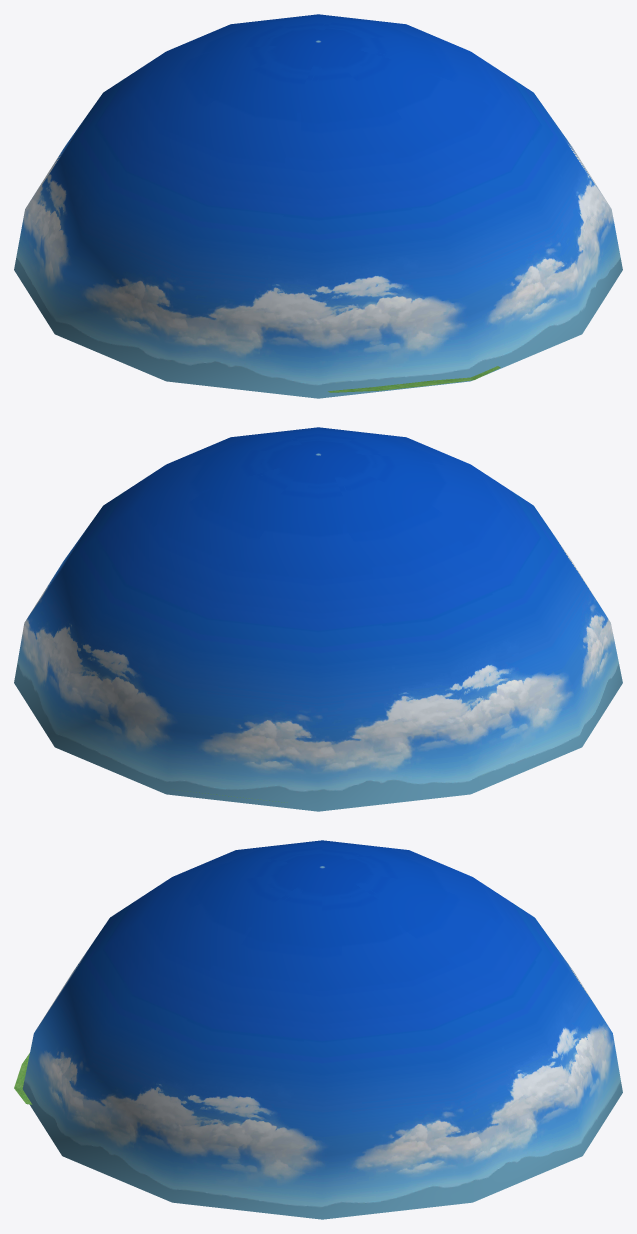
Rendered from Happy Maker.fbx.
3 views of the same model, one above another, from view 1: azimuth 30°, elevation 25°; view 2: azimuth 150°, elevation 25°; view 3: azimuth 270°, elevation 25° (orthographic).
Parts seen in each view (by area): view 1: bg0018_01_sky_opa_mt, bg0018_01_stageA_opa_mt; view 2: bg0018_01_sky_opa_mt; view 3: bg0018_01_sky_opa_mt.
Boxes of the visible parts, left/top/right/bottom form: bg0018_01_sky_opa_mt: left=14, top=14, right=622, bottom=398; bg0018_01_stageA_opa_mt: left=328, top=366, right=500, bottom=392; bg0018_01_sky_opa_mt: left=14, top=427, right=622, bottom=811; bg0018_01_sky_opa_mt: left=22, top=840, right=622, bottom=1219.
Bounding box in the file's own units: 19365 × 8277 × 19622.
